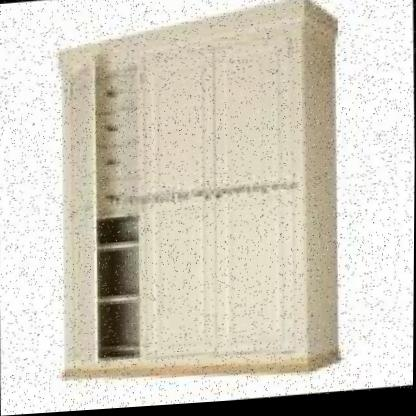Closet: (42, 0, 353, 404)
